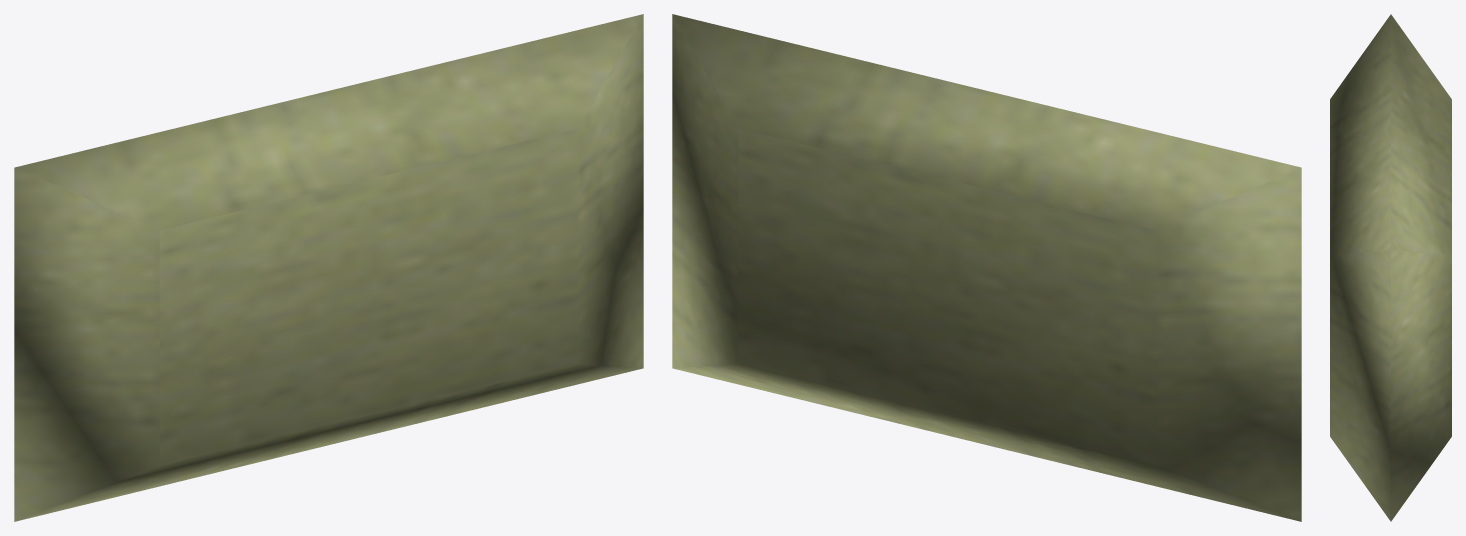
File: LongPillow_2.fbx
The picture shows the model from 3 angles, left to right: view 1: azimuth 30°, elevation 25°; view 2: azimuth 150°, elevation 25°; view 3: azimuth 270°, elevation 25°; orthographic projection. The views are drawn at different scales.
Visible parts, largest first — view 1: ThrowPillow_Green_01; view 2: ThrowPillow_Green_01; view 3: ThrowPillow_Green_01.
Boxes of the visible parts, box(x1,y1,x2,y2) form: ThrowPillow_Green_01: box(14, 14, 643, 521); ThrowPillow_Green_01: box(672, 14, 1301, 521); ThrowPillow_Green_01: box(1330, 14, 1451, 521).
Bounding box in the file's own units: 0.952 × 0.512 × 0.208.
